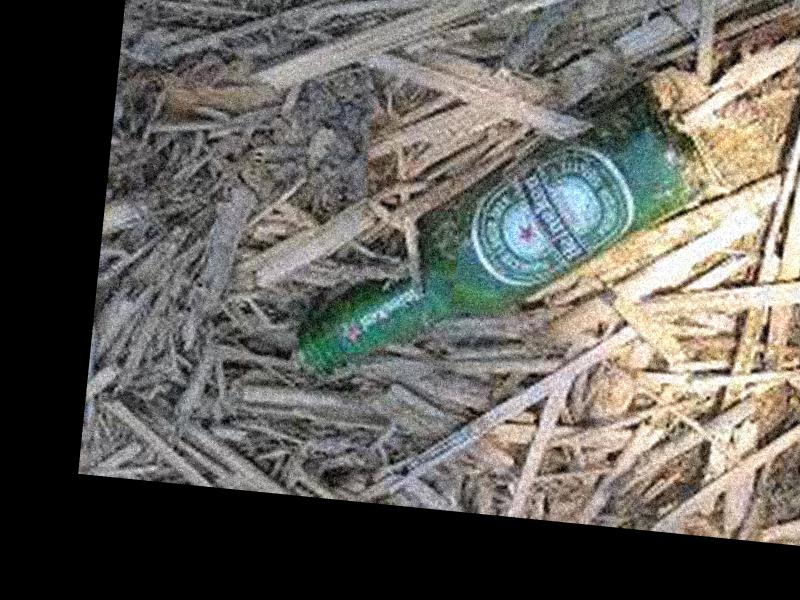Beer: (290, 56, 714, 406)
